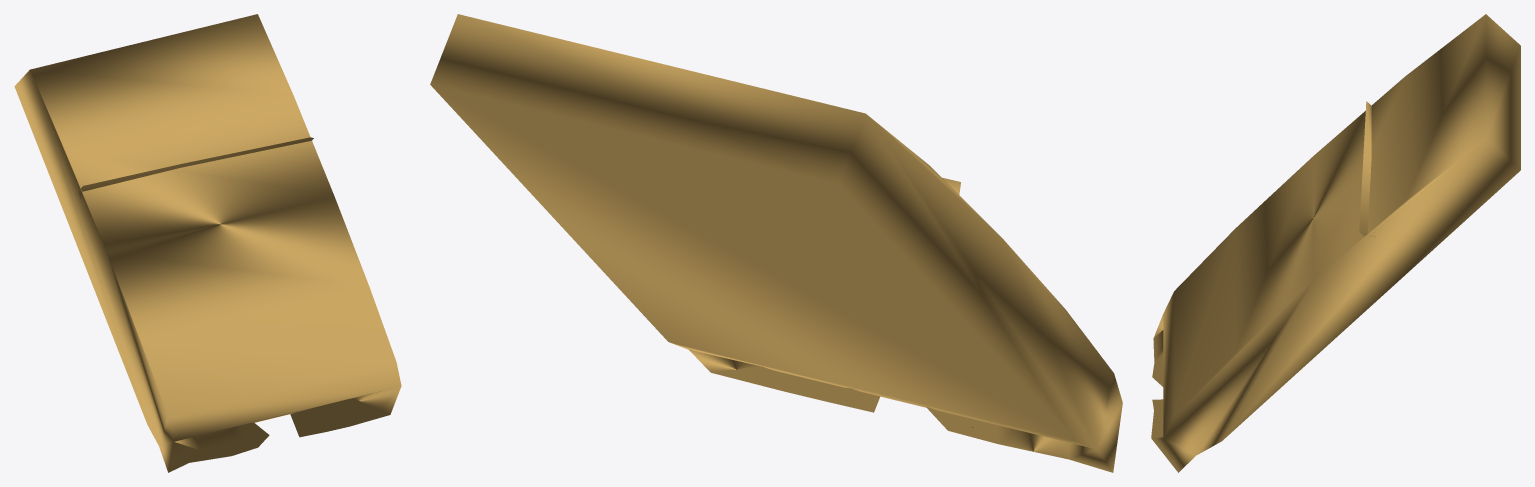
Rendered from roof_thatch_lod1.glb.
The picture shows the model from 3 angles, left to right: view 1: azimuth 30°, elevation 25°; view 2: azimuth 150°, elevation 25°; view 3: azimuth 270°, elevation 25°; orthographic projection. The views are drawn at different scales.
Bounding box in the file's own units: 2.1 × 2.66 × 2.63.
